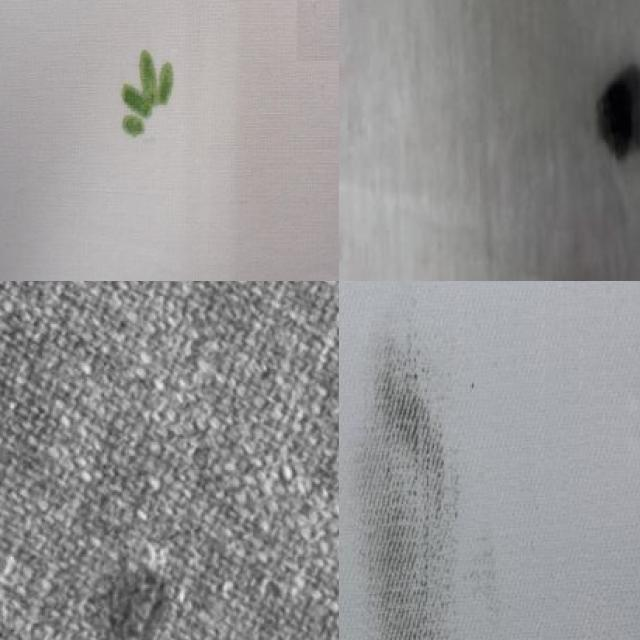Thread_other: (339, 281, 546, 640), (561, 54, 640, 180)
